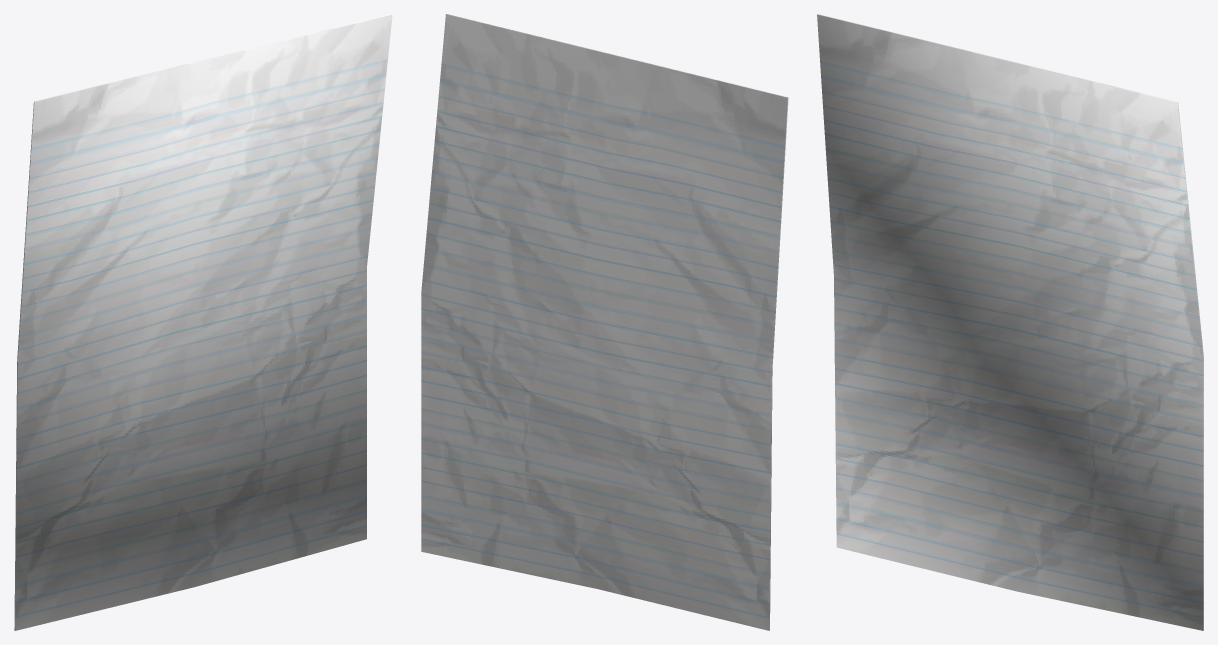
The model's file is prop-papel-arrugado.fbx.
3 views of the same model, side by side, from view 1: azimuth 30°, elevation 25°; view 2: azimuth 150°, elevation 25°; view 3: azimuth 330°, elevation 25° (orthographic). The views are drawn at different scales.
Parts seen in each view (by area): view 1: papers; view 2: papers; view 3: papers.
Part boxes in pixels (x1=…): papers: x1=14, y1=14, x2=392, y2=630; papers: x1=421, y1=14, x2=788, y2=630; papers: x1=817, y1=14, x2=1203, y2=630.
Size of the model in its own units: 28.99 by 42.06 by 3.69.
